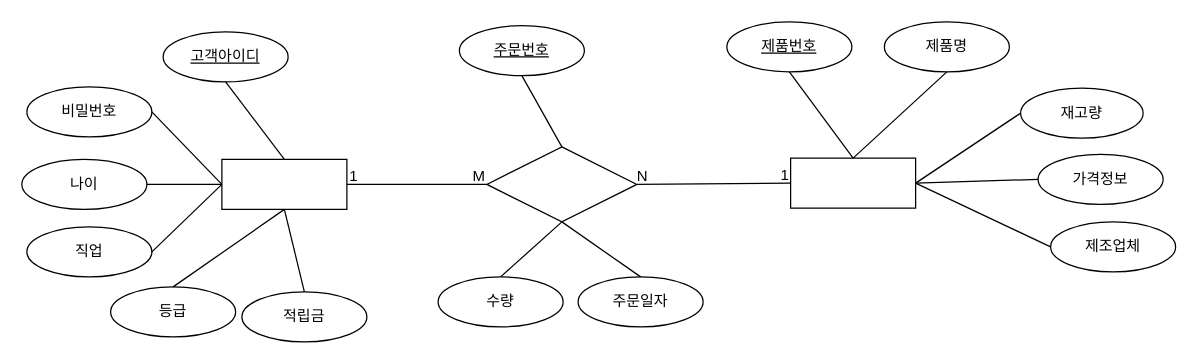
The diagram is 1198 pixels wide and 364 high, and some of its shapes have lost their labels. The centre of each missing label's shape, as x and y in pixels:
고객: [284,183]
제품: [852,182]
주문: [561,184]
